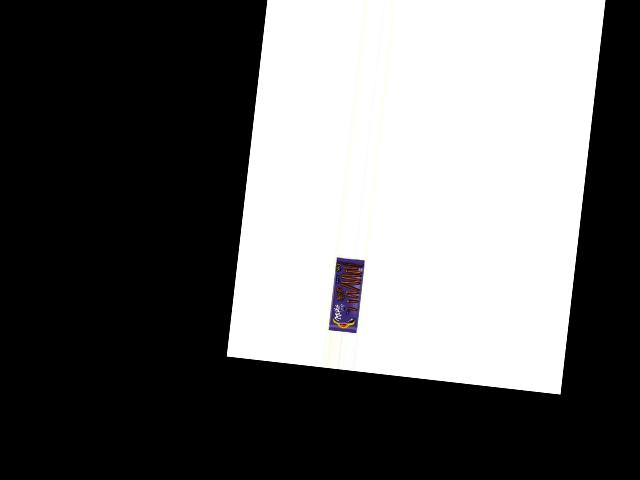chocolate: (327, 255, 368, 334)
